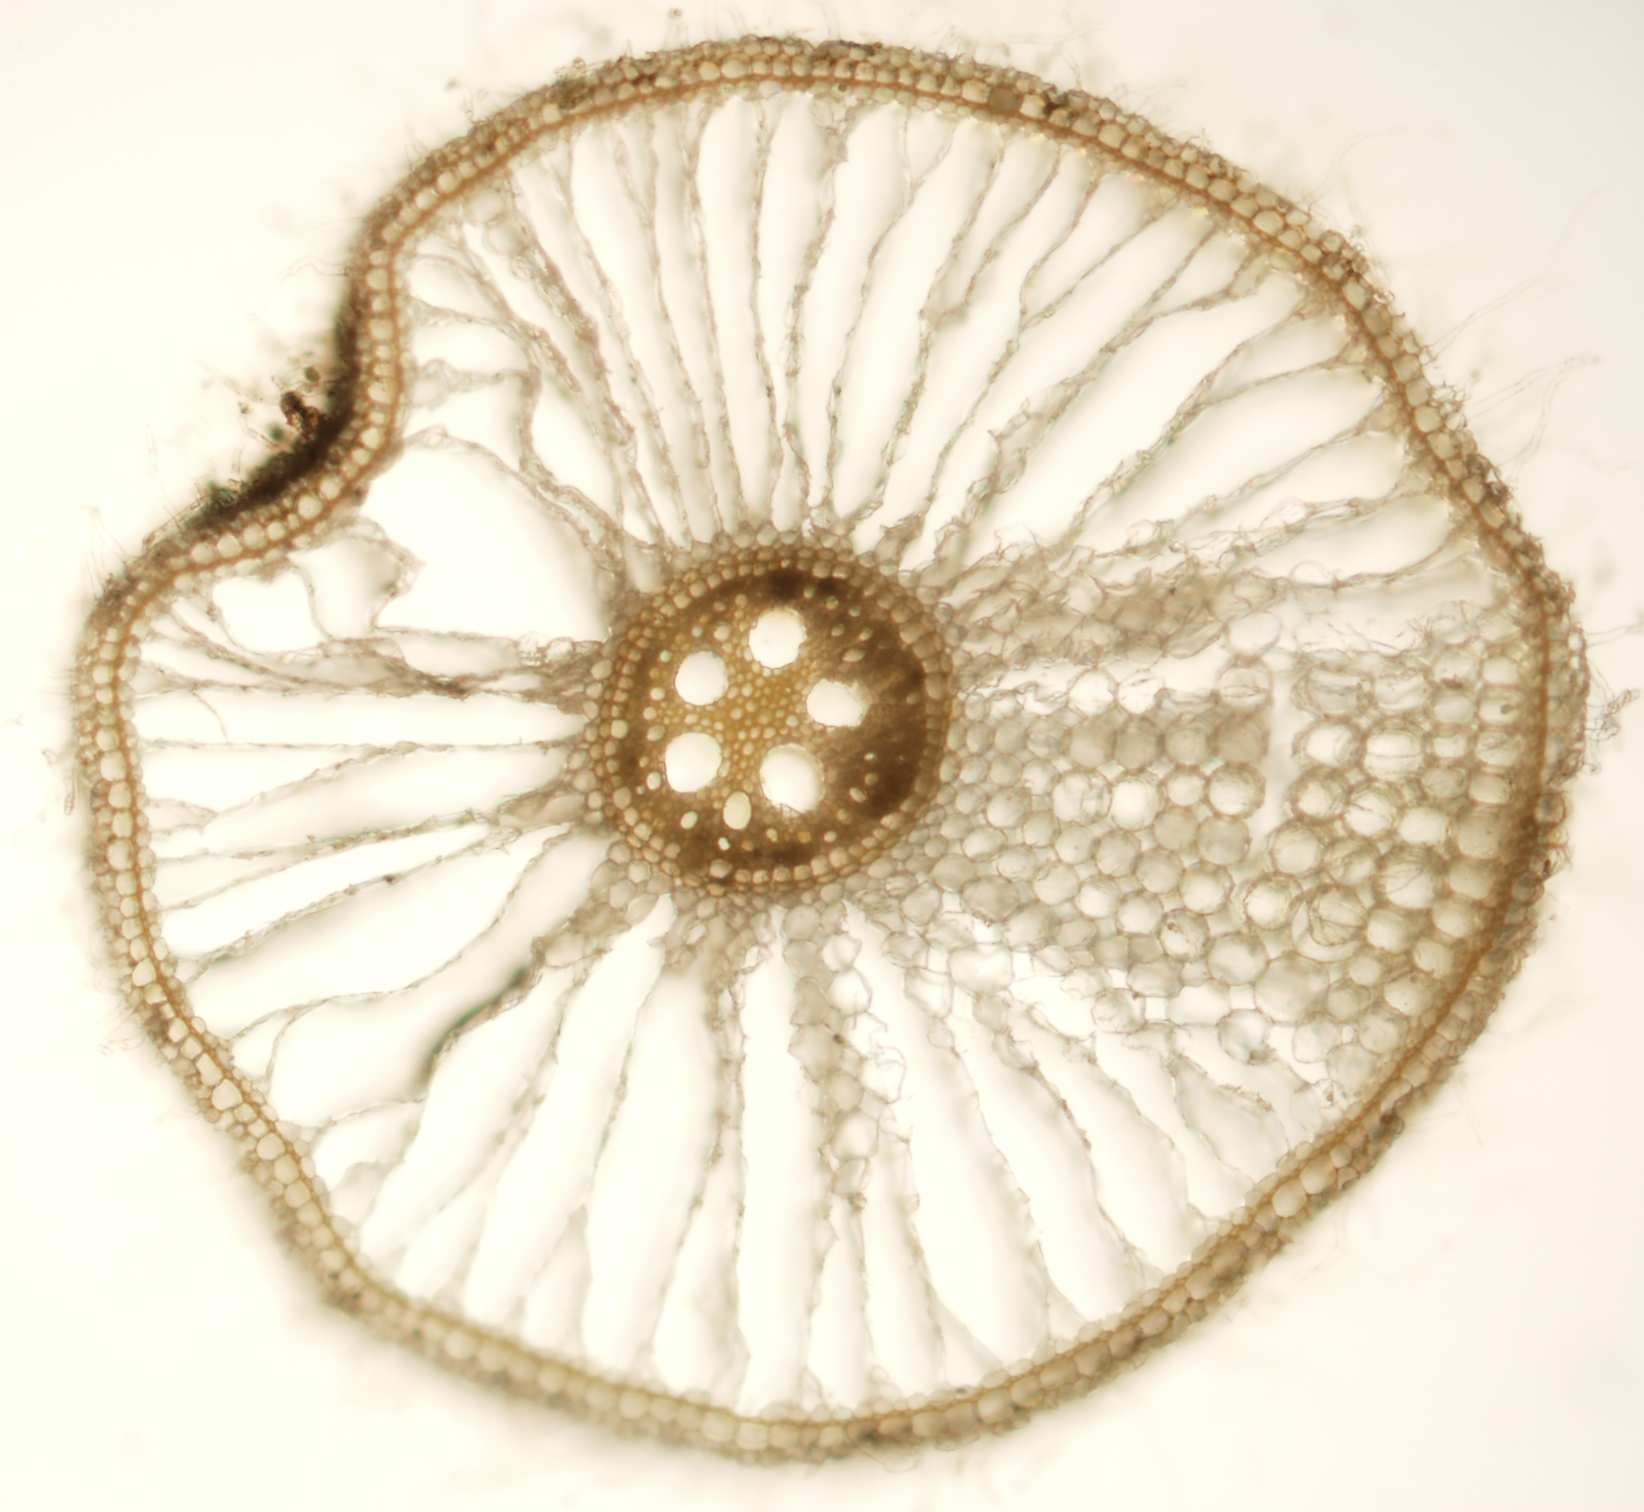lm: (760, 743, 826, 816), (748, 606, 808, 669), (664, 732, 722, 793), (806, 677, 874, 727), (674, 650, 729, 706)
